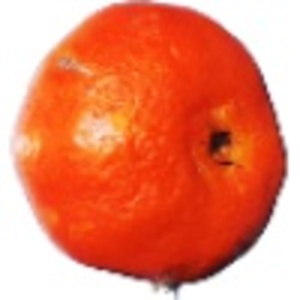tangerina: (9, 1, 290, 300)
